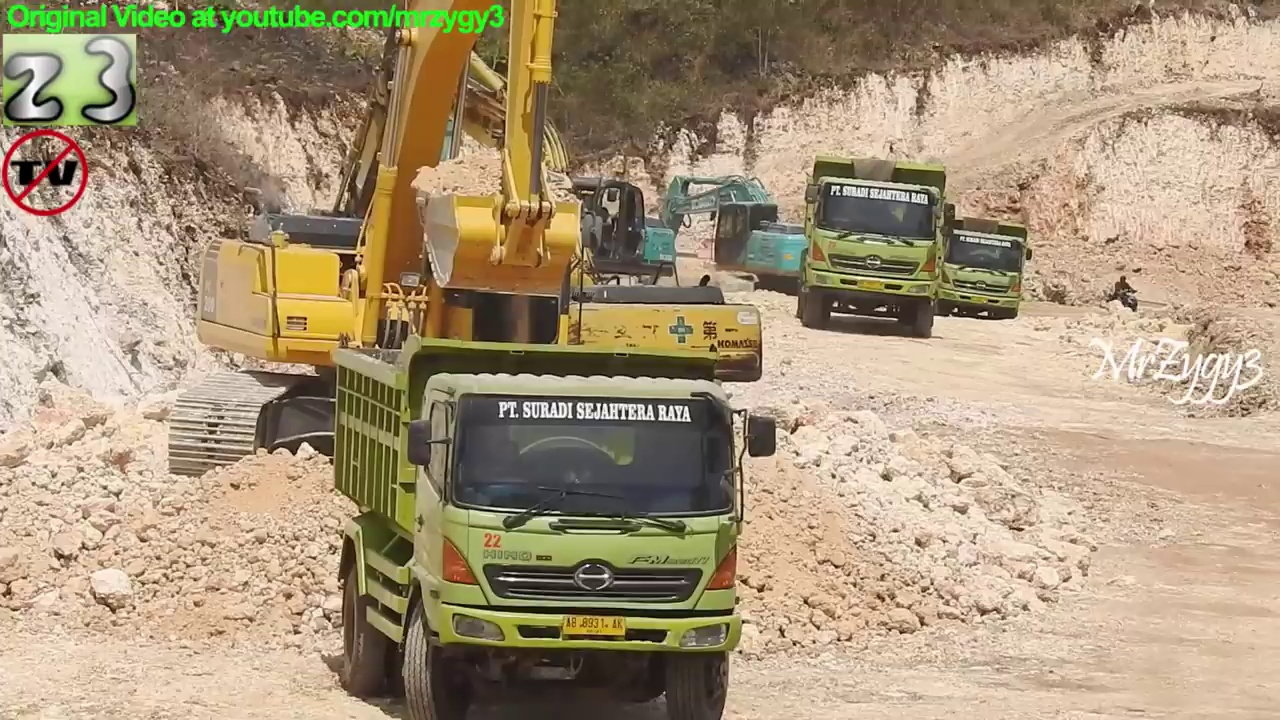excavator: (153, 1, 617, 493), (266, 1, 768, 440), (372, 1, 684, 309), (624, 169, 847, 312)
truck: (323, 330, 784, 720), (795, 151, 964, 343), (920, 210, 1041, 327)
